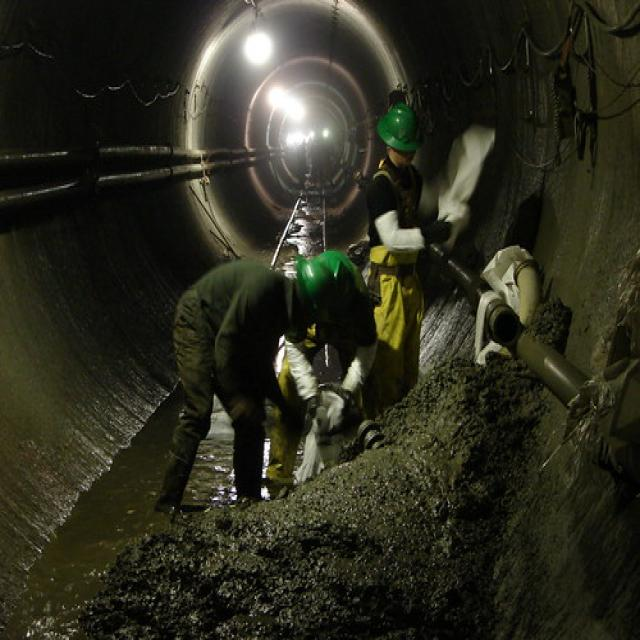Reflective-Jacket: (353, 164, 439, 363)
Safety-Helmet: (372, 98, 432, 160), (283, 249, 335, 318)
